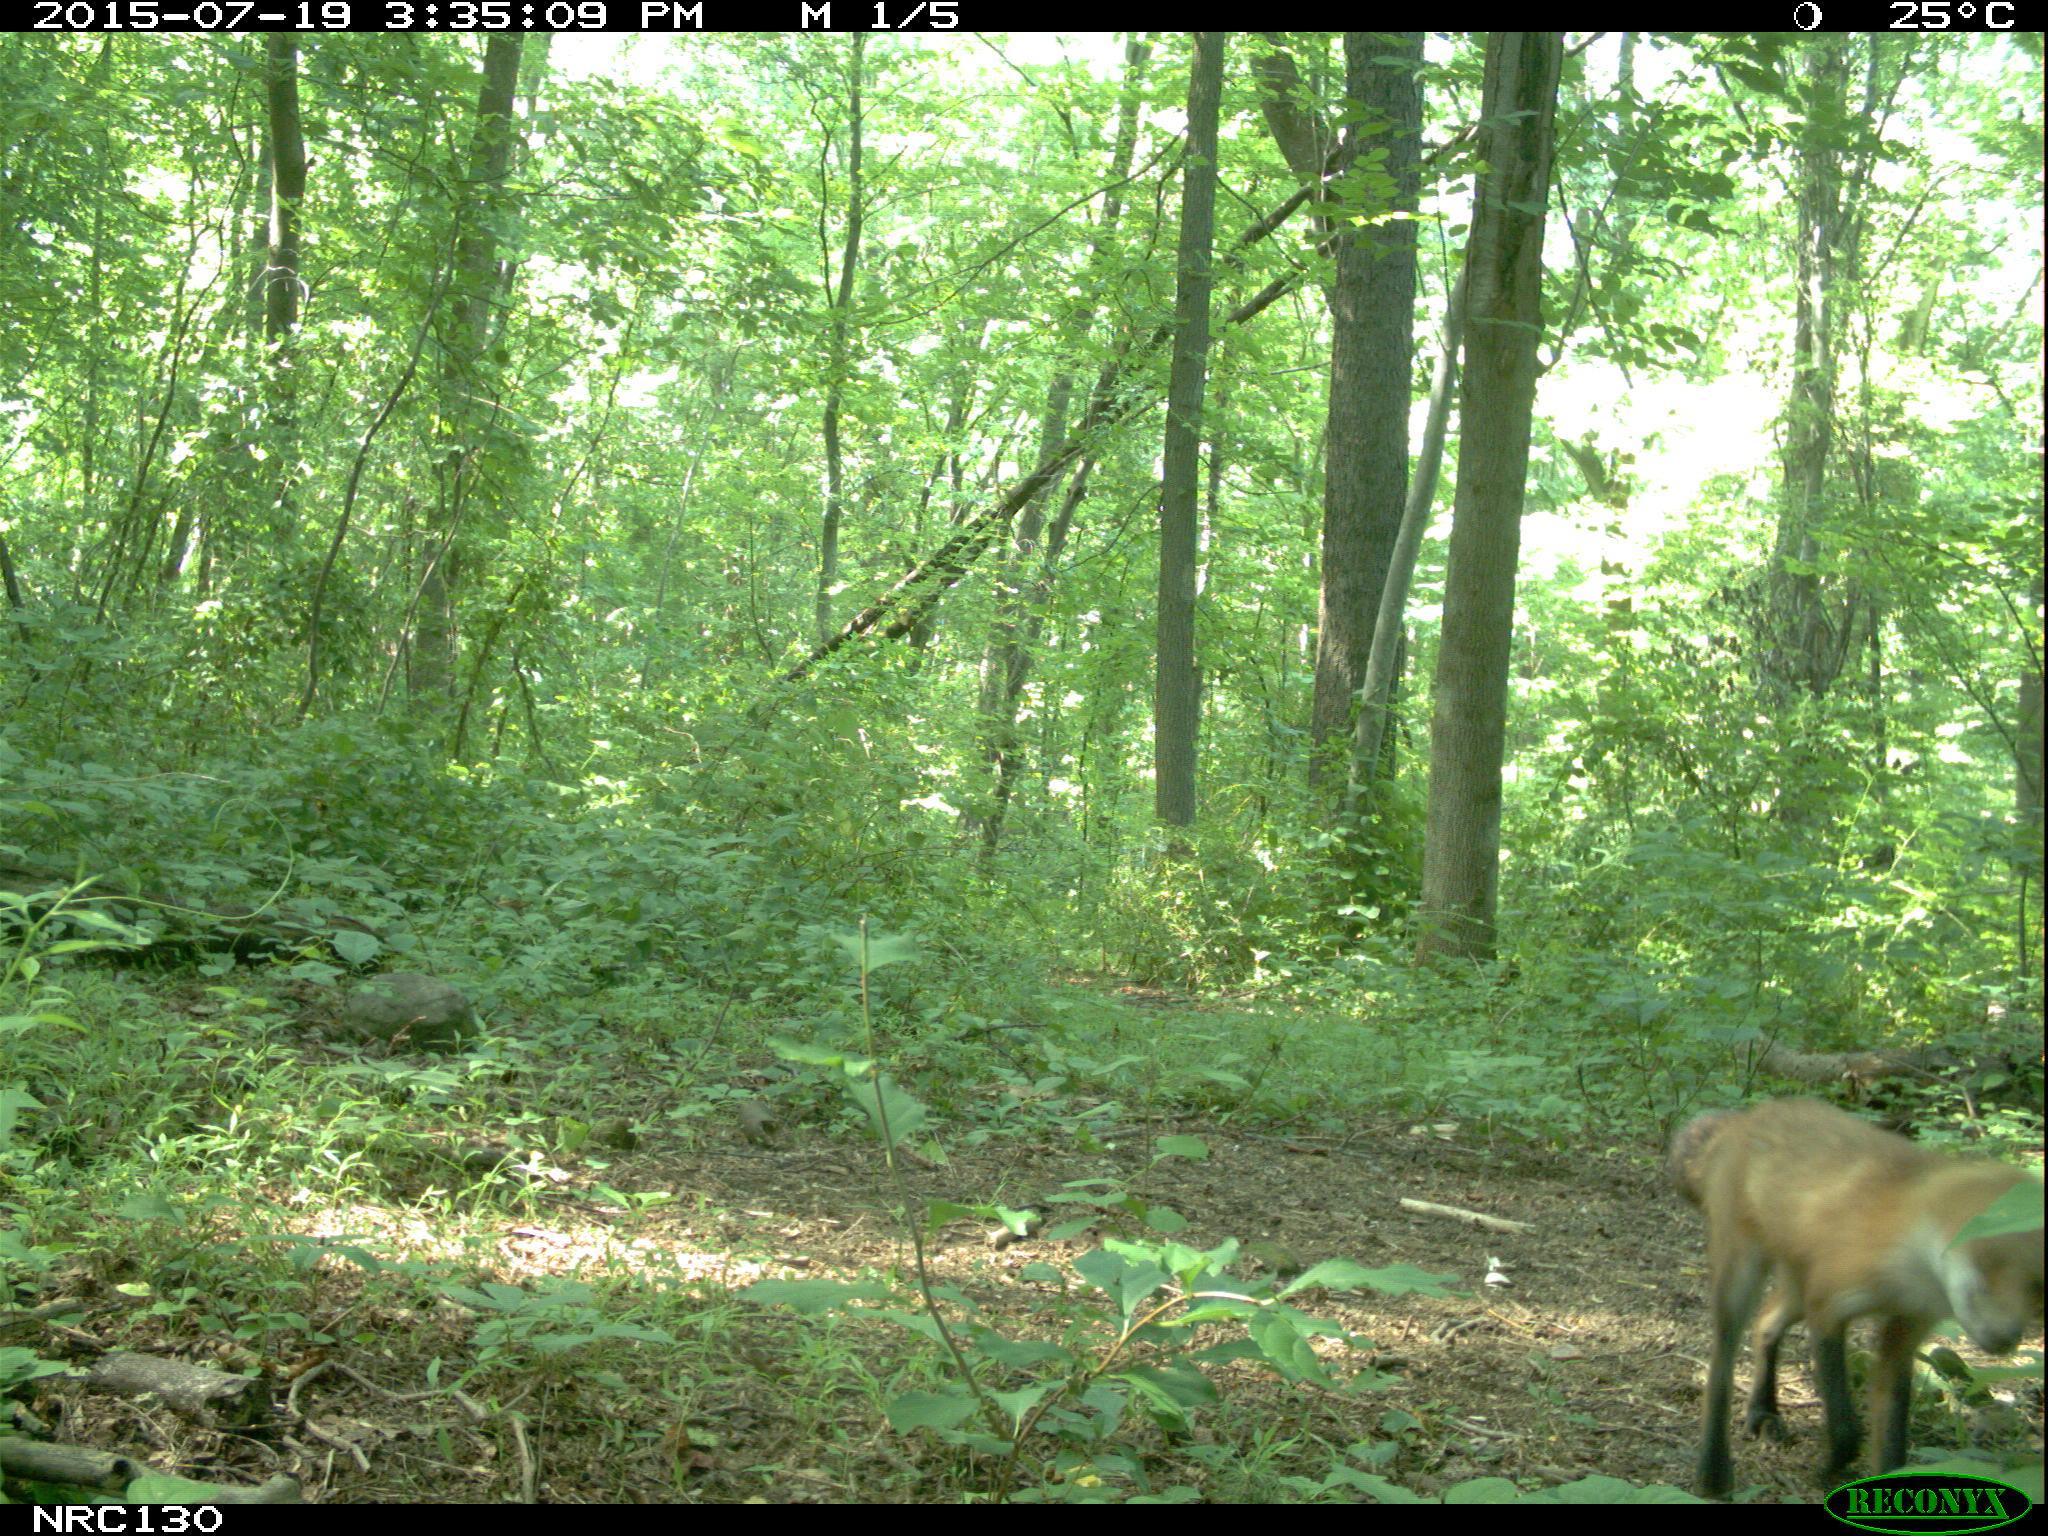Animal: (1667, 1096, 2042, 1481)
